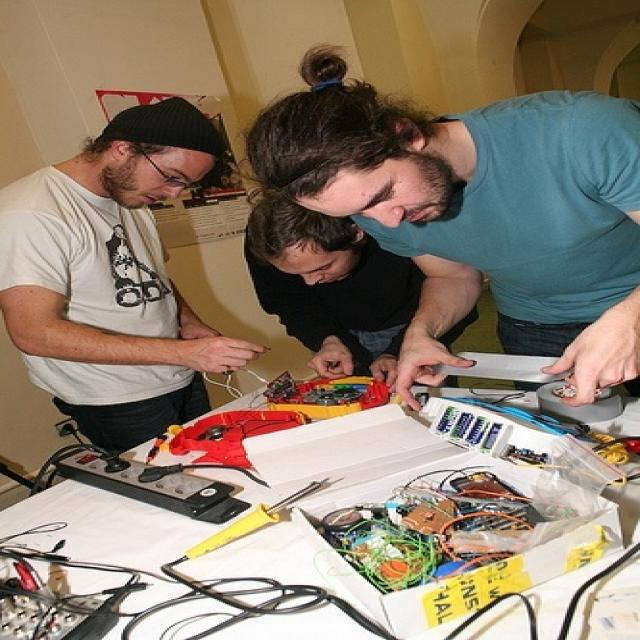Cable: (4, 544, 360, 640), (306, 450, 559, 575)
